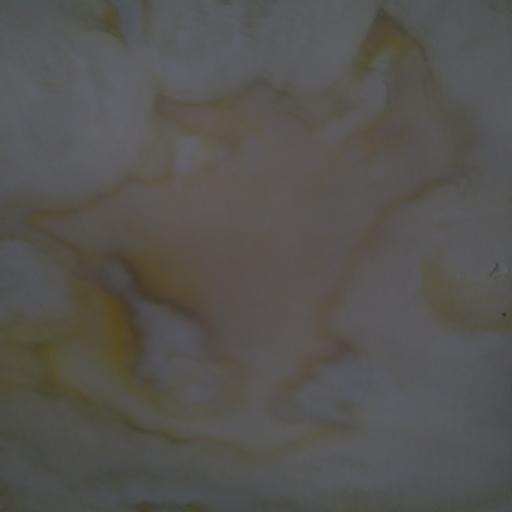algae: (34, 32, 452, 450)
